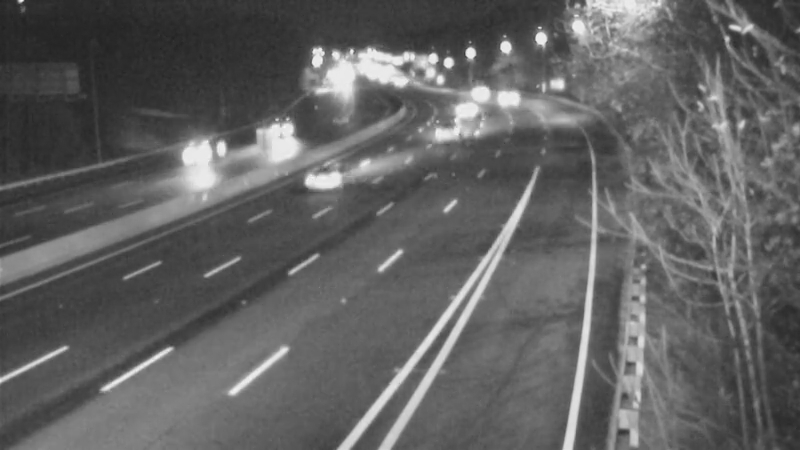vehicle: (275, 138, 355, 218), (164, 110, 244, 190), (444, 64, 494, 114), (478, 69, 528, 119), (440, 78, 490, 128), (422, 101, 472, 151), (267, 107, 317, 157)
